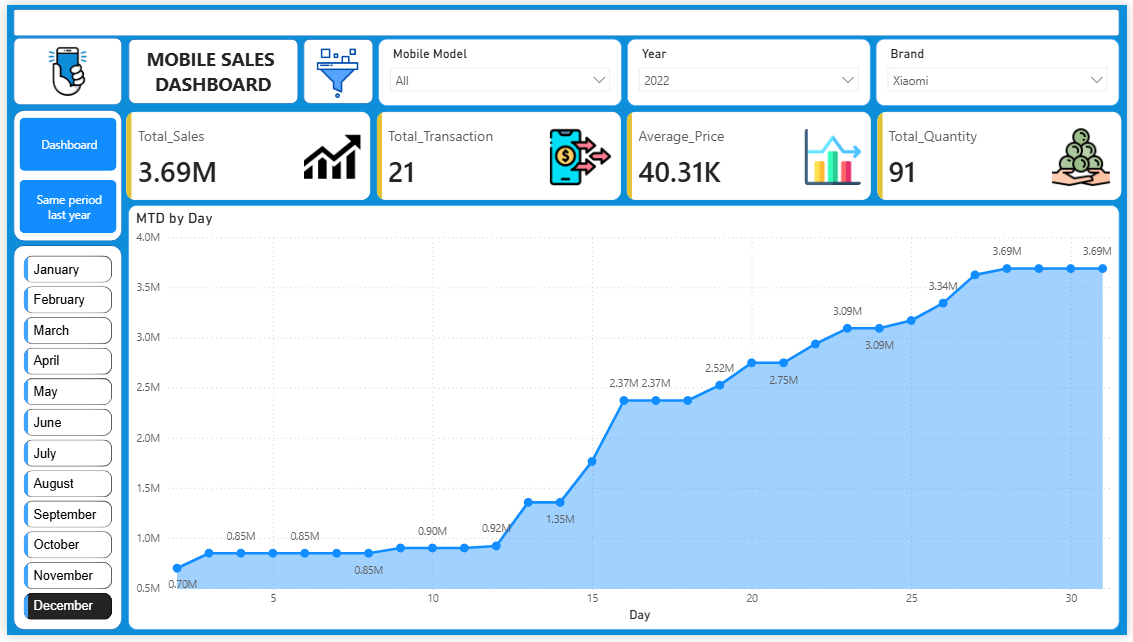

This screenshot's page, from the dashboard's own definition file:
{"tool":"powerbi","page":{"name":"MTD (month to date)","canvas":[1280,720],"ordinal":1},"visuals":[{"type":"shape","box":[7.1,37.1,124.3,77.1],"z":0},{"type":"image","box":[37.1,41.4,64.3,68.6],"z":1000},{"type":"shape","box":[7.1,120,124.3,150],"z":2000},{"type":"shape","box":[7.1,274.3,124.3,440],"z":3000},{"type":"advancedSlicerVisual","fields":{"Values":["custom_calander.Date.Variation.Date Hierarchy.Month"]},"box":[14.3,281.4,111.4,432.9],"z":4000},{"type":"cardVisual","fields":{"Data":["Sales_data.Total_Sales","Sales_data.Total_Transaction","Sales_data.Average_Price","Sales_data.Total_Quantity"]},"box":[131.4,117.1,1148.6,111.4],"z":5000},{"type":"slicer","fields":{"Values":["Sales_data.Mobile Model"]},"box":[424.3,38.6,278.6,77.1],"z":6000},{"type":"slicer","fields":{"Values":["custom_calander.Date.Variation.Date Hierarchy.Year"]},"box":[708.6,38.6,278.6,77.1],"z":7000},{"type":"slicer","fields":{"Values":["Sales_data.Brand"]},"box":[992.9,38.6,278.6,77.1],"z":8000},{"type":"shape","box":[338.6,38.6,80,74.3],"z":9000},{"type":"image","box":[348.6,45.7,58.6,64.3],"z":10000},{"type":"shape","box":[138.6,38.6,194.3,74.3],"z":11000},{"type":"textbox","box":[138.8,41.2,193.8,72.5],"z":12000},{"type":"shape","box":[7.1,4.3,1264.3,31.4],"z":13000},{"type":"lineChart","fields":{"Y":["Sales_data.MTD"],"Category":["custom_calander.Date.Variation.Date Hierarchy.Year","custom_calander.Date.Variation.Date Hierarchy.Quarter","custom_calander.Date.Variation.Date Hierarchy.Month","custom_calander.Date.Variation.Date Hierarchy.Day"]},"box":[138.6,228.6,1132.9,485.7],"z":14000},{"type":"pageNavigator","box":[14.3,128.6,111.4,132.9],"z":15000}]}

Visuals, with their boxes in screenshot pixels (x1, y1, x2, y2), scaled from the page's 1280x720 canvas onto the 1133x642 screenshot:
shape: box(6, 33, 116, 102)
image: box(33, 37, 90, 98)
shape: box(6, 107, 116, 241)
shape: box(6, 245, 116, 637)
advancedSlicerVisual - custom_calander.Date.Variation.Date Hierarchy.Month: box(13, 251, 111, 637)
cardVisual - Sales_data.Total_Sales x Sales_data.Total_Transaction: box(116, 104, 1132, 204)
slicer - Sales_data.Mobile Model: box(376, 34, 622, 103)
slicer - custom_calander.Date.Variation.Date Hierarchy.Year: box(627, 34, 874, 103)
slicer - Sales_data.Brand: box(879, 34, 1125, 103)
shape: box(300, 34, 371, 101)
image: box(309, 41, 360, 98)
shape: box(123, 34, 295, 101)
textbox: box(123, 37, 294, 101)
shape: box(6, 4, 1125, 32)
lineChart - Sales_data.MTD x custom_calander.Date.Variation.Date Hierarchy.Year: box(123, 204, 1125, 637)
pageNavigator: box(13, 115, 111, 233)
